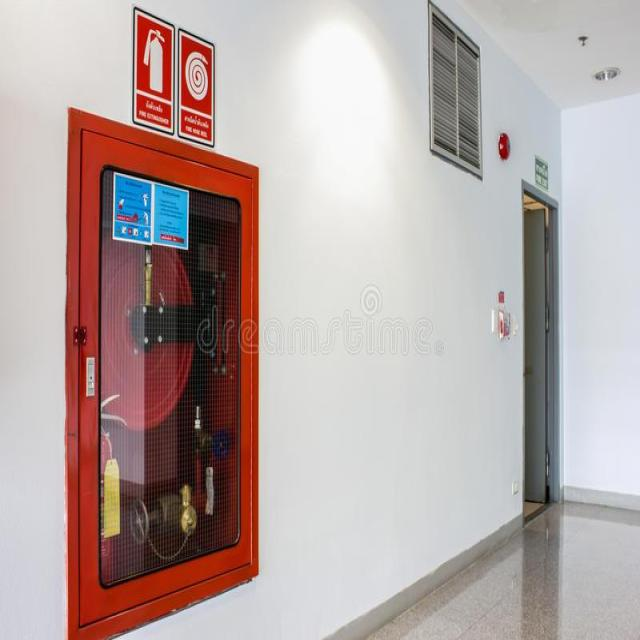fire_extinguisher: (75, 383, 132, 617)
